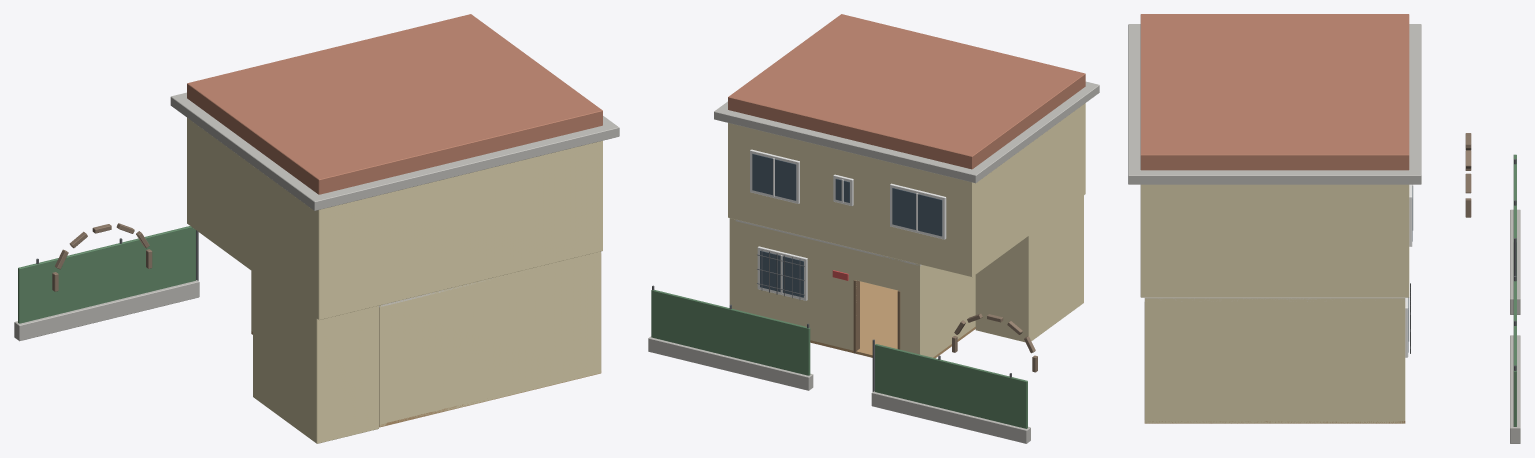
The model's file is Sultanbeyli_House66_Yellow.fbx.
The picture shows the model from 3 angles, left to right: view 1: azimuth 30°, elevation 25°; view 2: azimuth 150°, elevation 25°; view 3: azimuth 270°, elevation 25°; orthographic projection. The views are drawn at different scales.
Visible parts, largest first — view 1: Sultanbeyli_House66_Yellow; view 2: Sultanbeyli_House66_Yellow; view 3: Sultanbeyli_House66_Yellow.
Part boxes in pixels (x1=…): Sultanbeyli_House66_Yellow: x1=14, y1=14, x2=619, y2=443; Sultanbeyli_House66_Yellow: x1=648, y1=14, x2=1099, y2=443; Sultanbeyli_House66_Yellow: x1=1128, y1=14, x2=1520, y2=443.
Bounding box in the file's own units: 12.7 × 7.32 × 9.63.
